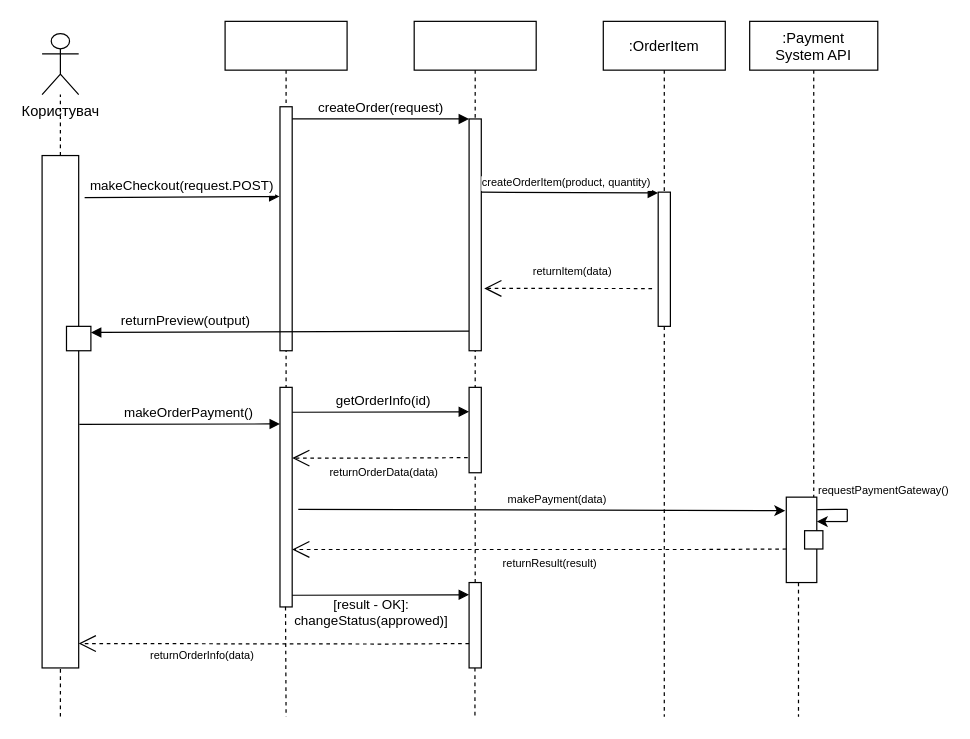
Some shapes in this 970 by 739 pixel diagram are drawn without their labels. The box of each missing label's shape, as (x1, y1, x2, y2) in pixels:
:Checkout: (224, 20, 347, 387)
:Order: (413, 20, 536, 387)
